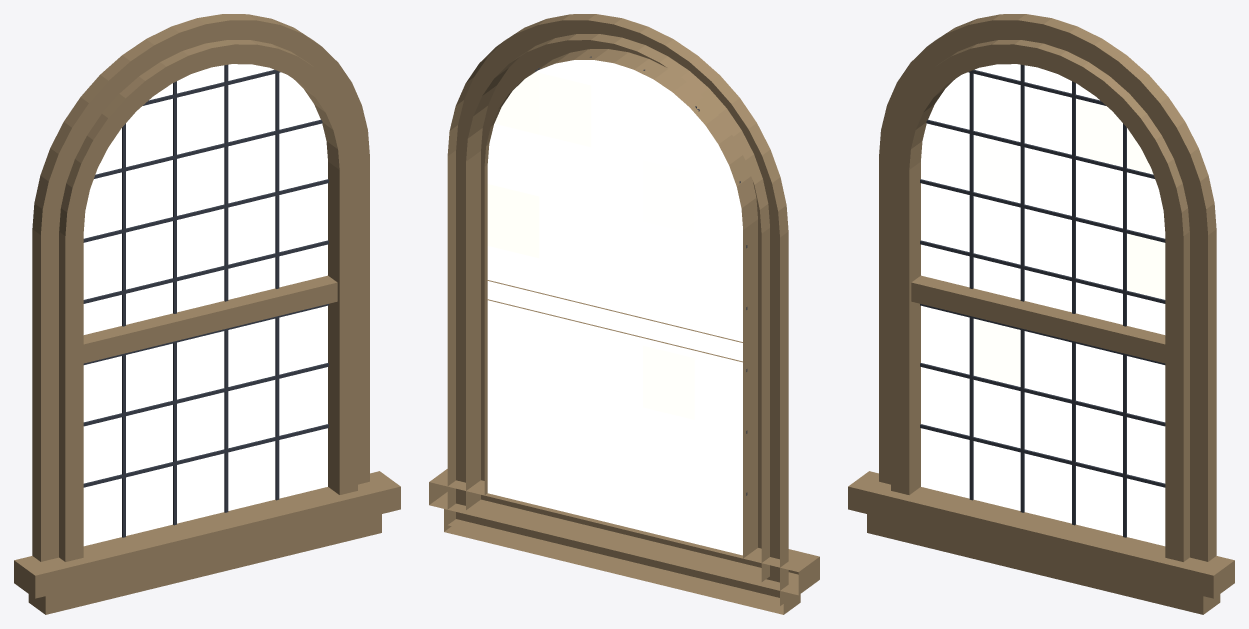
The model's file is window_1_4x2_4.glb.
3 renders of one model, left to right at view 1: azimuth 30°, elevation 25°; view 2: azimuth 150°, elevation 25°; view 3: azimuth 330°, elevation 25°, orthographic.
Parts seen in each view (by area): view 1: window_1_4x2_4; view 2: window_1_4x2_4; view 3: window_1_4x2_4.
Boxes of the visible parts, box(x1,y1,x2,y2) form: window_1_4x2_4: box(14, 14, 400, 614); window_1_4x2_4: box(429, 14, 819, 614); window_1_4x2_4: box(848, 14, 1234, 614).
Bounding box in the file's own units: 2 × 2.84 × 0.2.
